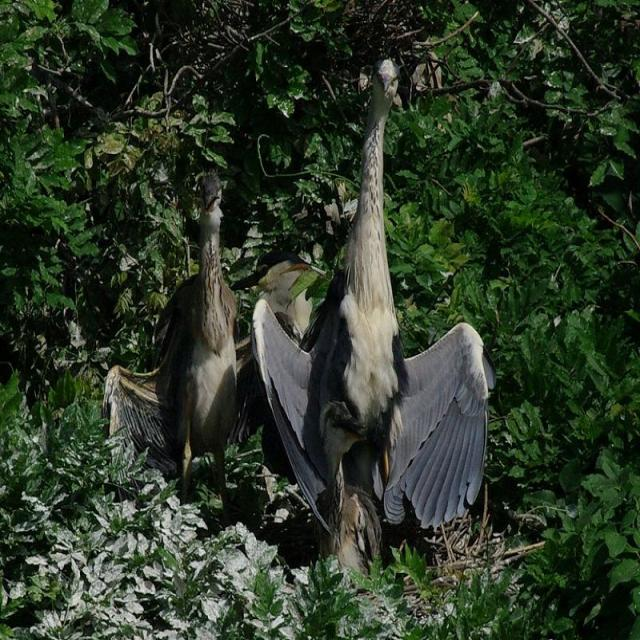bird: (247, 52, 491, 572), (105, 174, 311, 493)
